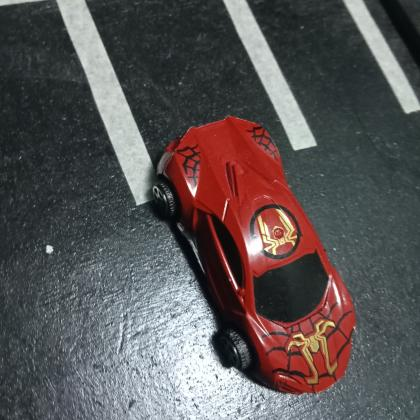Car: (150, 113, 358, 398)
